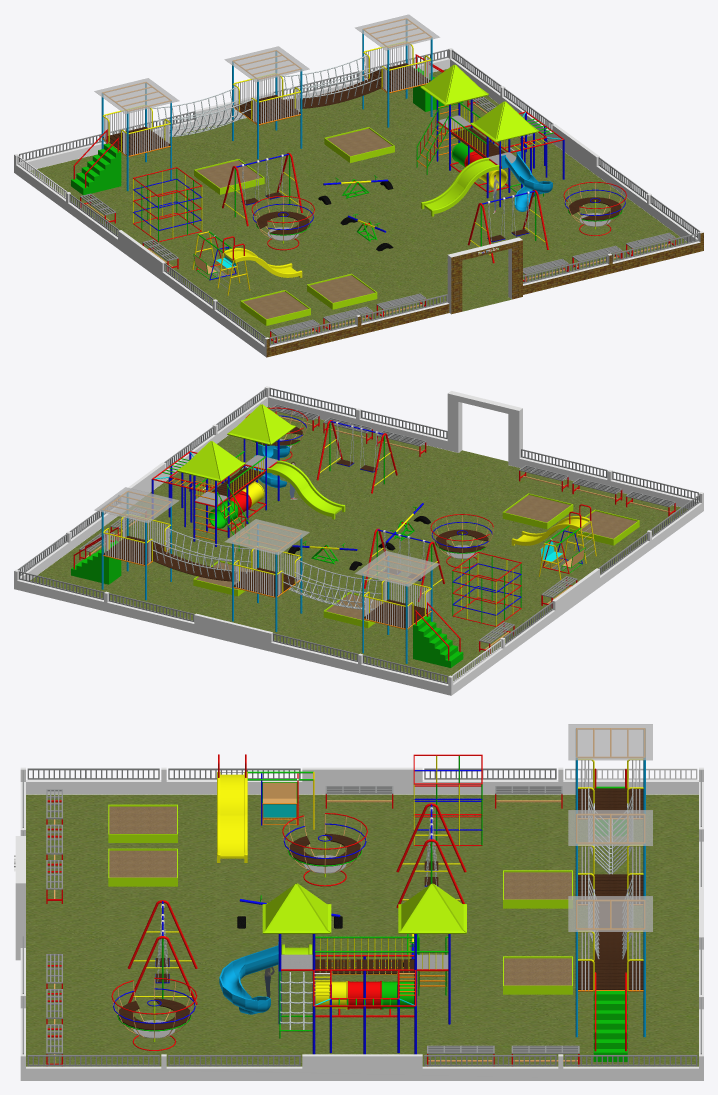
The model's file is playground_2b.glb.
3 renders of one model, top to bottom at view 1: azimuth 30°, elevation 25°; view 2: azimuth 150°, elevation 25°; view 3: azimuth 270°, elevation 25°, orthographic. The views are drawn at different scales.
Parts seen in each view (by area): view 1: Object_3726, Object_3729, Object_3727, Object_496, Object_892, Object_477, Object_889, Object_2185, Object_1528, Object_2424, Object_2845, Object_353 (+17 smaller); view 2: Object_3726, Object_3729, Object_892, Object_496, Object_477, Object_889, Object_2185, Object_895, Object_2424, Object_353, Object_1528, Object_2411 (+17 smaller); view 3: Object_3726, Object_3729, Object_892, Object_477, Object_496, Object_1253, Object_895, Object_1528, Object_2424, Object_2845, Object_1186, Object_2417 (+30 smaller).
Part boxes in pixels (bbox=[...]): Object_3726: bbox=[30, 69, 687, 343]; Object_3729: bbox=[14, 48, 703, 357]; Object_3727: bbox=[266, 232, 703, 357]; Object_496: bbox=[355, 14, 439, 50]; Object_892: bbox=[94, 78, 179, 114]; Object_477: bbox=[224, 46, 309, 82]; Object_889: bbox=[71, 143, 121, 195]; Object_2185: bbox=[421, 157, 499, 216]; Object_1528: bbox=[243, 291, 308, 319]; Object_2424: bbox=[309, 275, 374, 302]; Object_2845: bbox=[327, 128, 391, 156]; Object_353: bbox=[283, 78, 381, 108]; Object_3726: bbox=[30, 406, 687, 682]; Object_3729: bbox=[14, 386, 703, 695]; Object_892: bbox=[354, 550, 439, 586]; Object_496: bbox=[94, 487, 179, 523]; Object_477: bbox=[224, 519, 309, 555]; Object_889: bbox=[413, 616, 463, 667]; Object_2185: bbox=[267, 460, 345, 519]; Object_895: bbox=[71, 540, 121, 584]; Object_2424: bbox=[505, 495, 570, 522]; Object_353: bbox=[153, 551, 250, 581]; Object_1528: bbox=[580, 511, 636, 538]; Object_2411: bbox=[177, 441, 220, 481]; Object_3726: bbox=[26, 794, 698, 1066]; Object_3729: bbox=[15, 767, 703, 1080]; Object_892: bbox=[568, 724, 652, 760]; Object_477: bbox=[568, 810, 652, 845]; Object_496: bbox=[568, 896, 652, 931]; Object_1253: bbox=[217, 771, 247, 862]; Object_895: bbox=[593, 991, 627, 1061]; Object_1528: bbox=[109, 806, 176, 833]; Object_2424: bbox=[109, 850, 176, 877]; Object_2845: bbox=[504, 958, 571, 985]; Object_1186: bbox=[504, 872, 571, 899]; Object_2417: bbox=[398, 884, 466, 933].
Size of the model in its own units: 20.15 by 4.35 by 20.35.
Materials: 34 (8 with a texture image).
